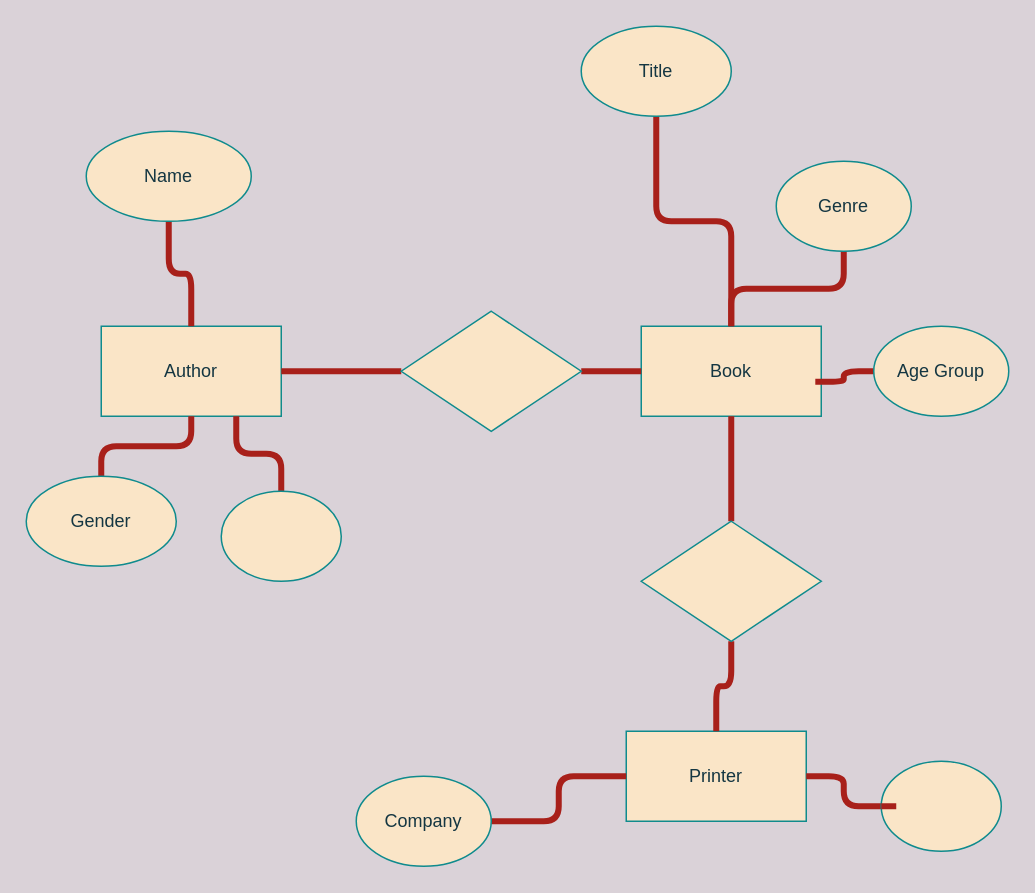
This 1035x893 diagram has some shape labels left out. Each missing label, with the centre of its shape:
"Country" belongs at point (280, 535).
"Printed By" belongs at point (730, 580).
"Size" belongs at point (940, 805).
"Writes" belongs at point (490, 370).
